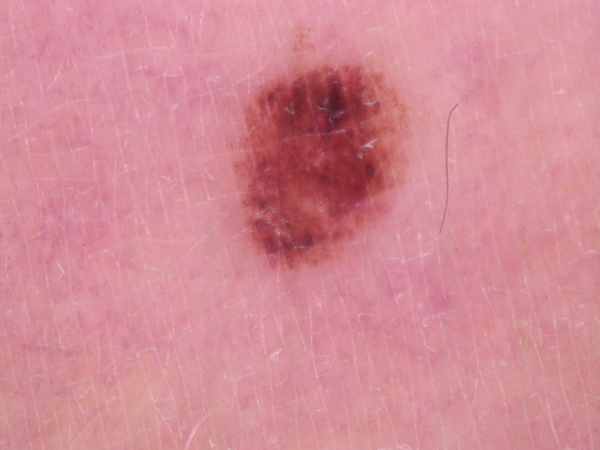Detected Lesion: (230, 58, 410, 277)
